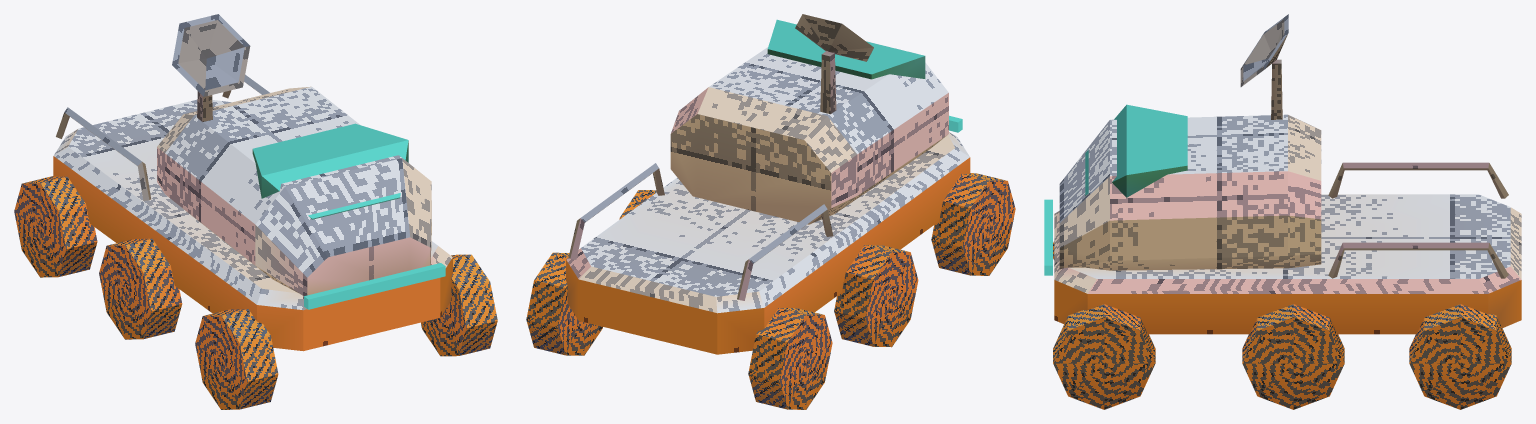
Rendered from ship.rover.glb.
3 renders of one model, left to right at view 1: azimuth 30°, elevation 25°; view 2: azimuth 150°, elevation 25°; view 3: azimuth 270°, elevation 25°, orthographic. The views are drawn at different scales.
Visible parts, largest first — view 1: kit_cab, kit_chassis, kit_wheels, kit_glass, kit_dish, kit_lightbar, kit_deck_rail; view 2: kit_chassis, kit_cab, kit_wheels, kit_glass, kit_deck_rail, kit_dish, kit_mast; view 3: kit_chassis, kit_cab, kit_wheels, kit_glass, kit_deck_rail, kit_dish, kit_lightbar, kit_mast.
Boxes of the visible parts, x1,y1,x2,y2 form: kit_cab: (157,86,431,295); kit_chassis: (53,99,452,351); kit_wheels: (14,176,497,409); kit_glass: (252,123,408,219); kit_dish: (172,14,250,96); kit_lightbar: (304,263,445,309); kit_deck_rail: (56,75,269,200); kit_chassis: (566,132,970,354); kit_cab: (670,47,948,224); kit_wheels: (526,173,1015,409); kit_glass: (767,19,925,79); kit_deck_rail: (568,163,833,300); kit_dish: (795,14,873,61); kit_mast: (820,51,836,114); kit_chassis: (1054,194,1521,334); kit_cab: (1059,114,1321,270); kit_wheels: (1053,241,1511,409); kit_glass: (1085,104,1187,197); kit_deck_rail: (1328,162,1508,278); kit_dish: (1240,14,1288,86); kit_lightbar: (1044,199,1052,275); kit_mast: (1271,59,1282,119).
Size of the model in its own units: 2.56 by 2.98 by 4.29.
Materials: 8 (7 with a texture image).
